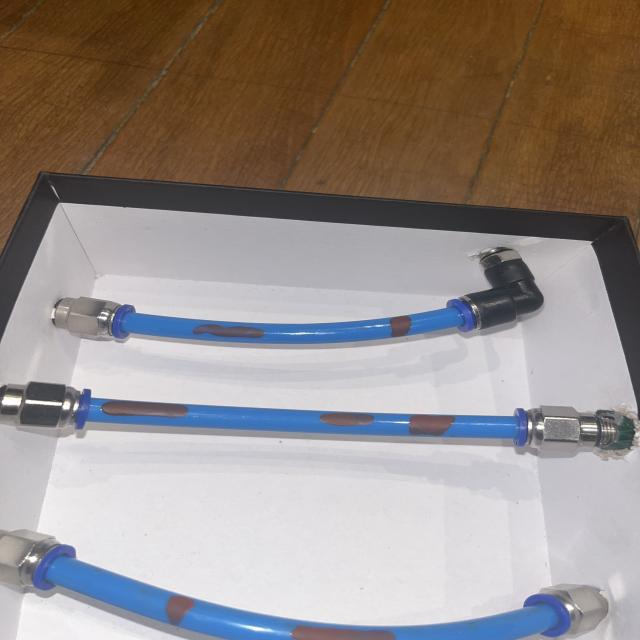hose_damage: (287, 621, 396, 640), (98, 399, 191, 421), (158, 590, 200, 629), (406, 412, 456, 439), (188, 323, 268, 339), (316, 411, 377, 428), (388, 314, 410, 339)
